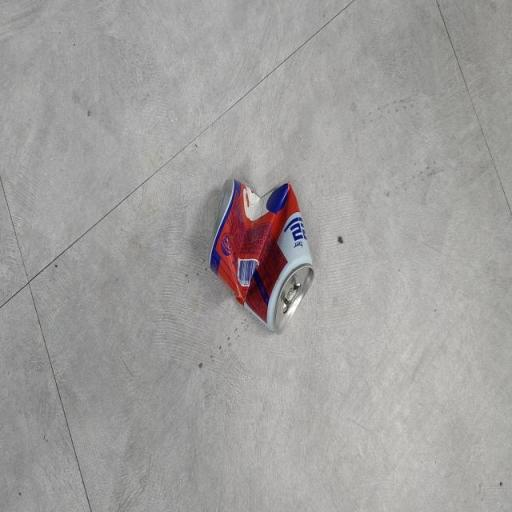metal: (196, 148, 324, 361)
